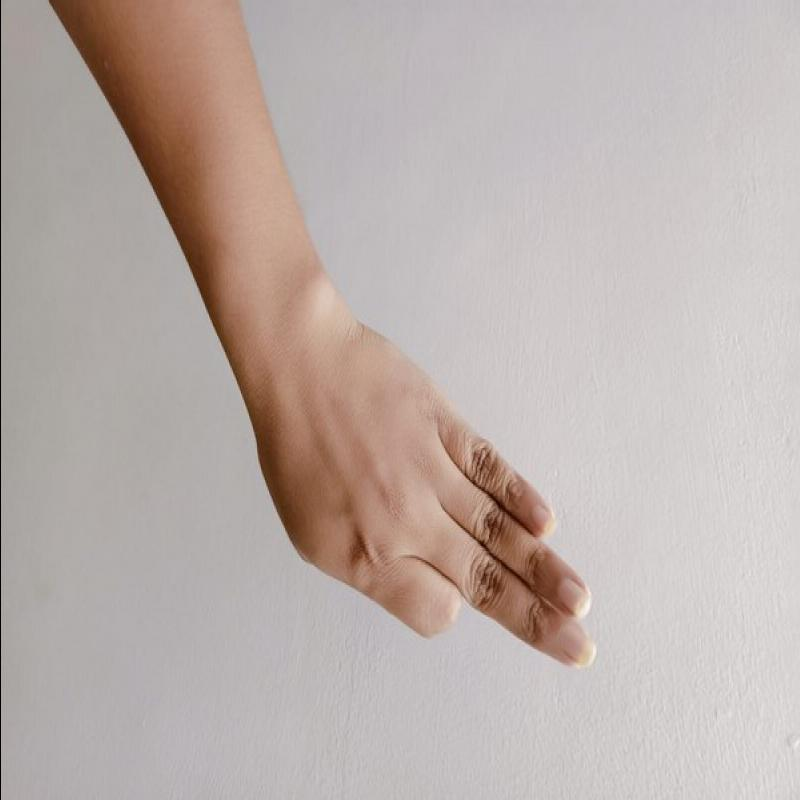Mudraakhyam: (227, 308, 632, 688)
